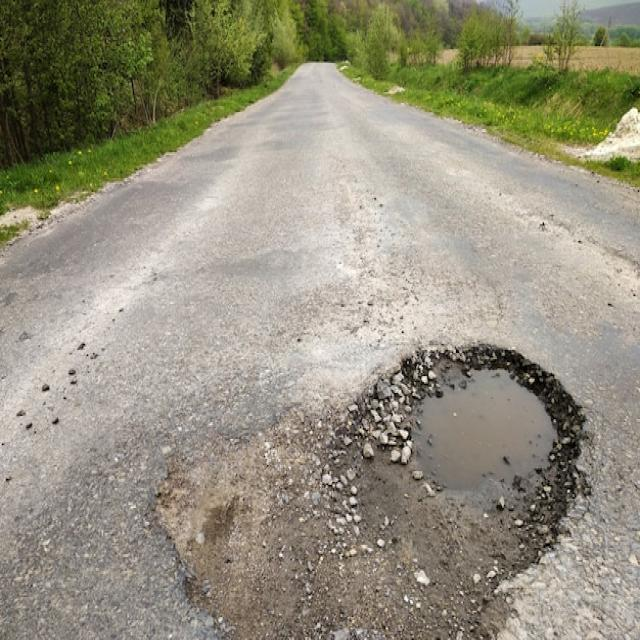Pothole: (155, 338, 593, 640)
